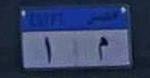1: (44, 35, 54, 66)
meem: (95, 35, 109, 62)
